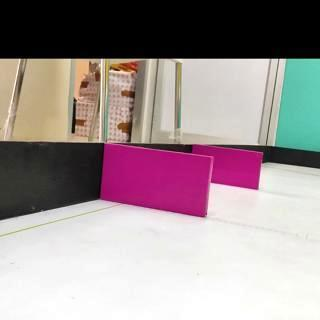xparking: (100, 144, 211, 218), (213, 146, 263, 189)
